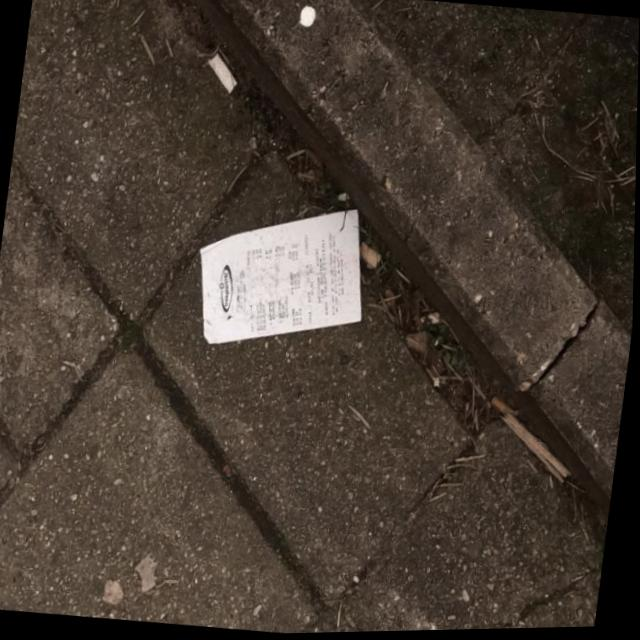Paper: (196, 224, 361, 353)
